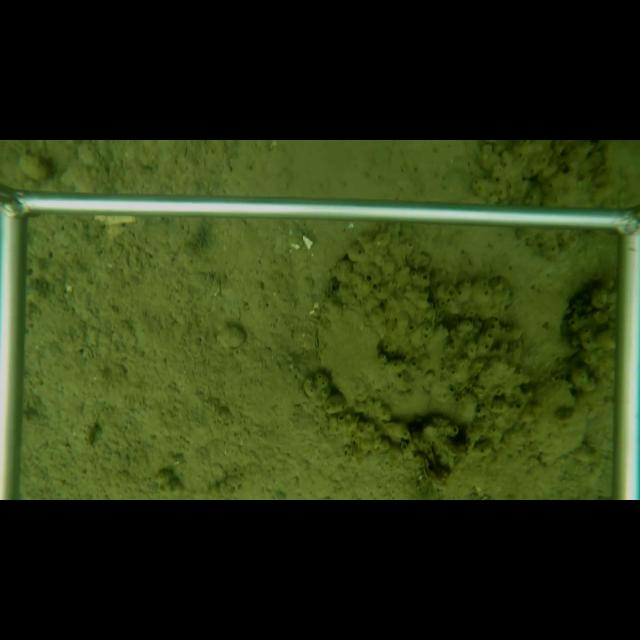Oyster-Closed: (313, 291, 483, 429), (525, 376, 594, 467)
